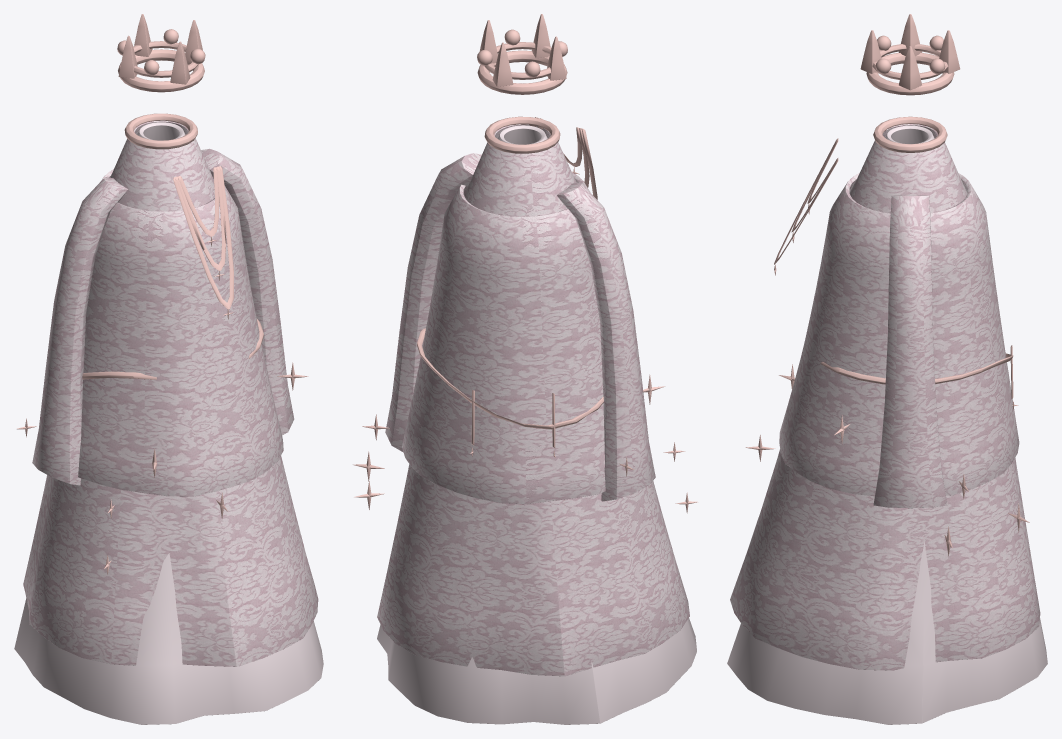
File: avatar.glb
3 renders of one model, left to right at view 1: azimuth 30°, elevation 25°; view 2: azimuth 150°, elevation 25°; view 3: azimuth 270°, elevation 25°, orthographic. The views are drawn at different scales.
Parts seen in each view (by area): view 1: avatar; view 2: avatar; view 3: avatar.
Part boxes in pixels (x1,y1,x2,y2): avatar: (14,14,323,724); avatar: (353,14,697,724); avatar: (727,14,1047,724).
Size of the model in its own units: 0.8008 by 1.74 by 0.8075.
3 materials, 1 textured.
